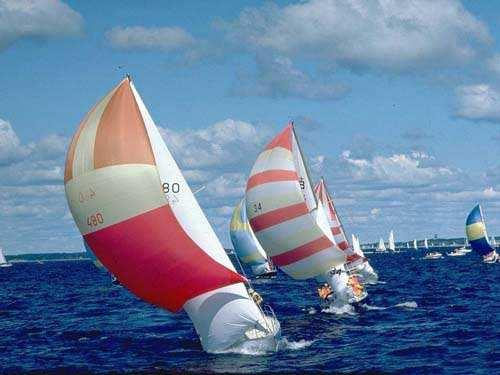fanchuan: (61, 72, 290, 360), (242, 120, 385, 302)
